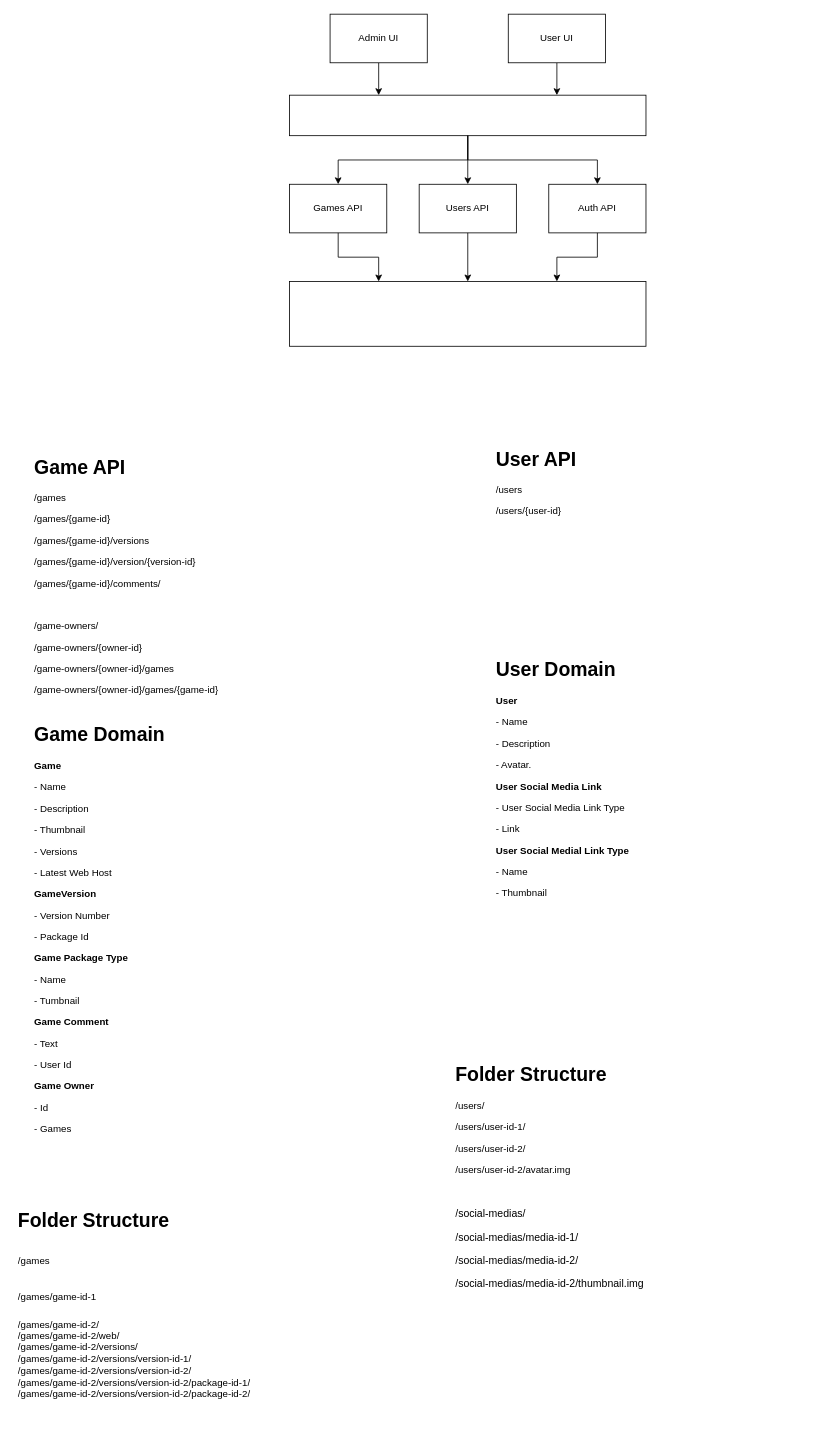
The diagram is 813 pixels wide and 1446 high, and some of its shapes have lost their labels. Here are the shapes that lost their labels. From the top down, the centre of each, then its label:
At (467,115): "API Gateway".
At (467,313): "Storage Account Games files Media thumbs Domain data".
